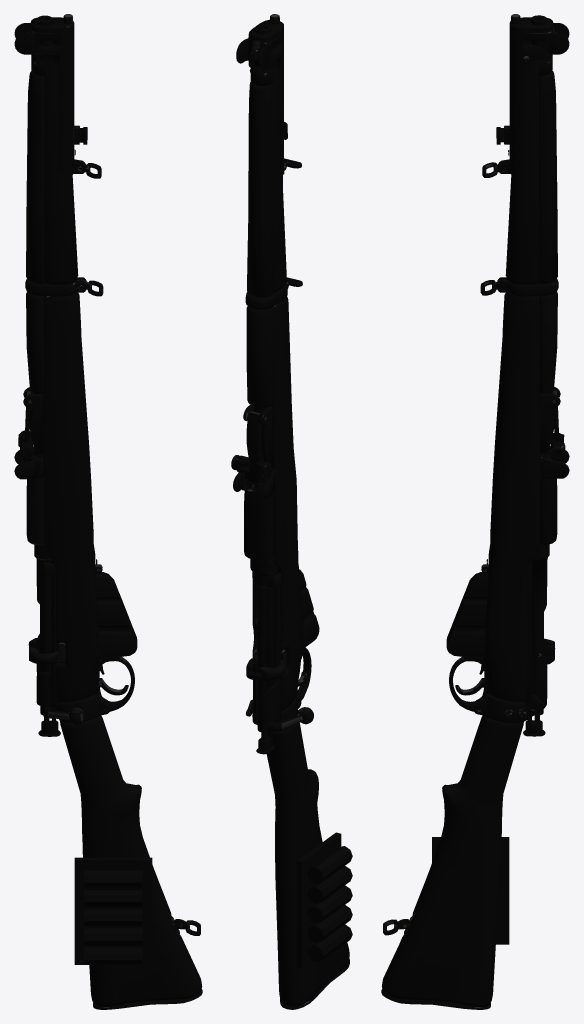
File: LeeEnfieldNo4__ShellHolder_Butt.fbx
3 renders of one model, left to right at view 1: azimuth 90°, elevation 25°; view 2: azimuth 150°, elevation 25°; view 3: azimuth 270°, elevation 25°, orthographic.
Visible parts, largest first — view 1: asset_LeeEnfieldNo4.001; view 2: asset_LeeEnfieldNo4.001; view 3: asset_LeeEnfieldNo4.001.
Part boxes in pixels (x1,y1,x2,y2): asset_LeeEnfieldNo4.001: (14, 14, 202, 1009); asset_LeeEnfieldNo4.001: (231, 14, 352, 1009); asset_LeeEnfieldNo4.001: (381, 14, 569, 1009).
Size of the model in its own units: 0.0421 by 0.678 by 0.1167.
